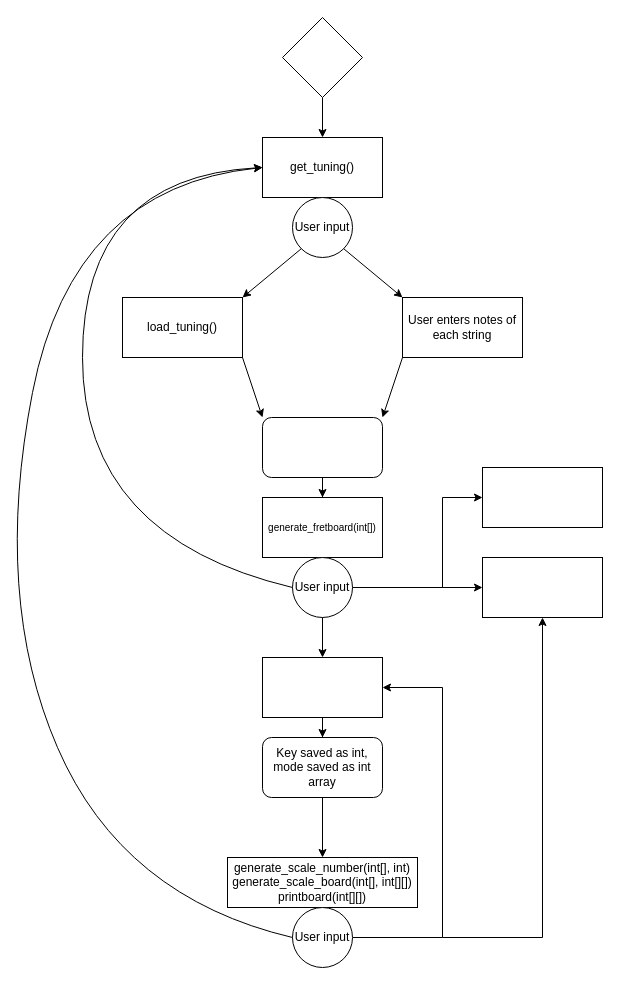
Image size: 621x985. Some labels were removed from this diagram. Here are the shapes that lost their labels. From the top down, the centre of each, then its label:
the point at 322,57: Start
the point at 322,447: Returns array of 6 ints
the point at 542,497: print_board(int[][])
the point at 542,587: save_tunning()
the point at 322,687: get_key() get_mode()
